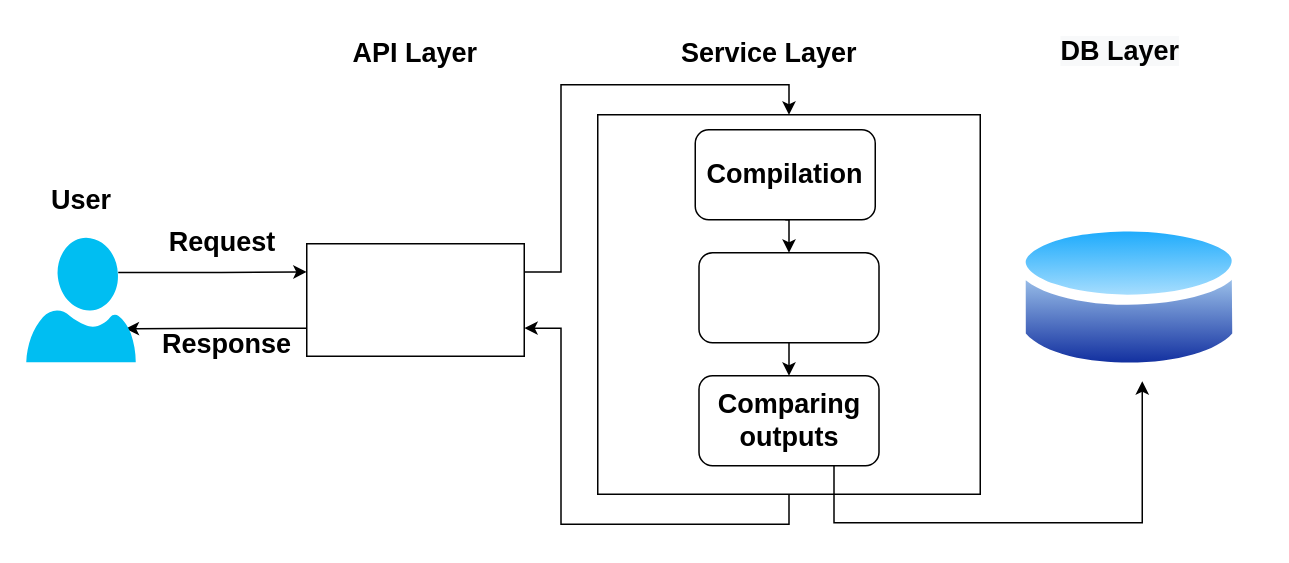
This 1289x563 diagram has some shape labels left out. Here are the shapes that lost their labels. From the top down, the centre of each, then its label:
point (414, 299): Web Server
point (788, 297): Execution
